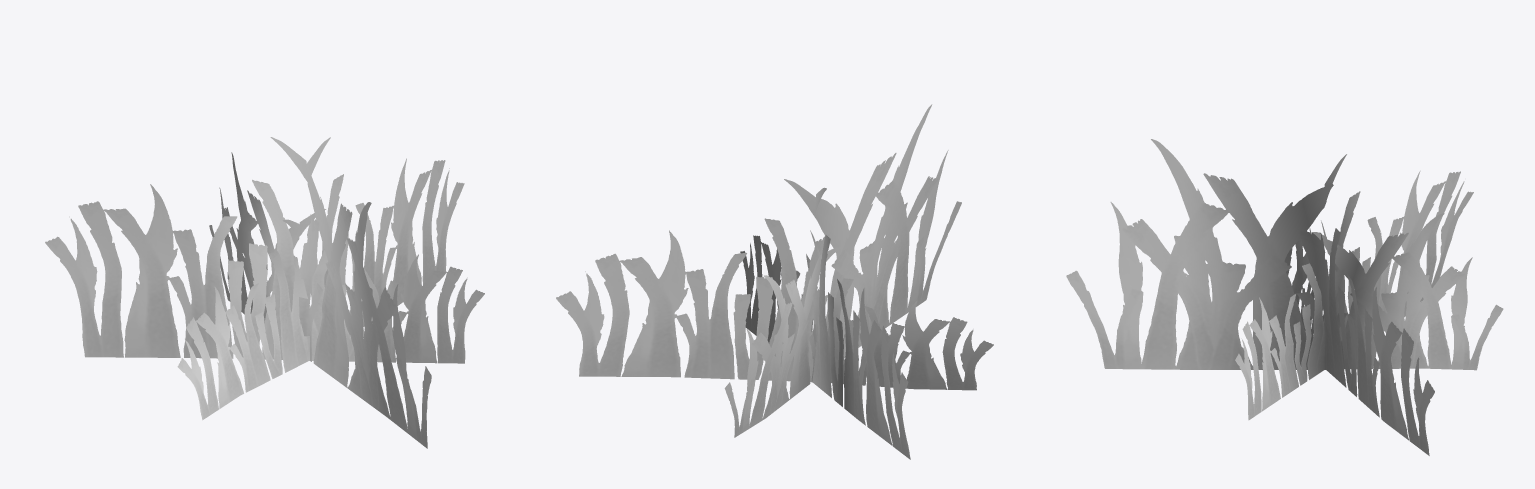
File: Grass_3.fbx
3 views of the same model, side by side, from view 1: azimuth 30°, elevation 25°; view 2: azimuth 150°, elevation 25°; view 3: azimuth 270°, elevation 25° (orthographic). The views are drawn at different scales.
Visible parts, largest first — view 1: Grass_3; view 2: Grass_3; view 3: Grass_3.
Part boxes in pixels (x1,y1,x2,y2): Grass_3: (45, 137, 484, 448); Grass_3: (556, 104, 993, 459); Grass_3: (1066, 139, 1503, 455).
Size of the model in its own units: 1.53 by 1 by 1.61.
